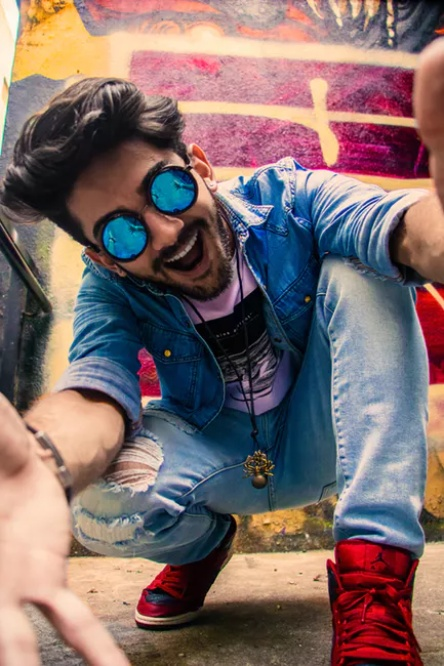face: (69, 138, 229, 299)
